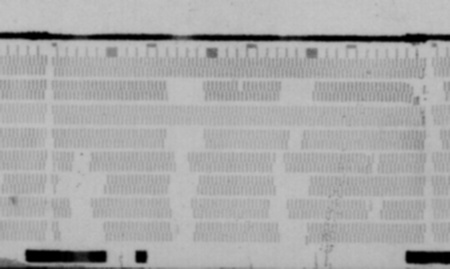Broken hole: (167, 173, 199, 241), (56, 173, 109, 196), (56, 219, 106, 242), (163, 127, 208, 150), (164, 78, 207, 102), (271, 173, 314, 196), (414, 80, 449, 106), (279, 79, 315, 102), (275, 222, 311, 244), (265, 197, 292, 219), (68, 197, 95, 219), (363, 199, 384, 221), (71, 151, 92, 173), (286, 129, 306, 152), (172, 150, 192, 172), (270, 152, 288, 173), (430, 128, 445, 152), (369, 153, 382, 175), (236, 81, 245, 93)
Oblique printing: (406, 79, 417, 95), (363, 153, 375, 166)
